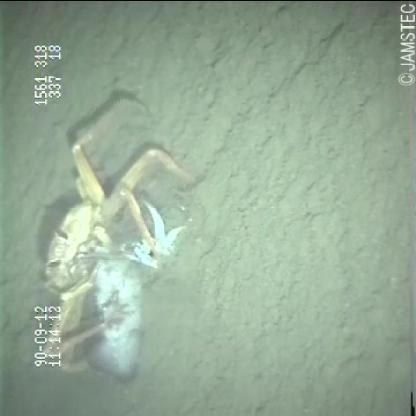Bio: (36, 138, 206, 388)
